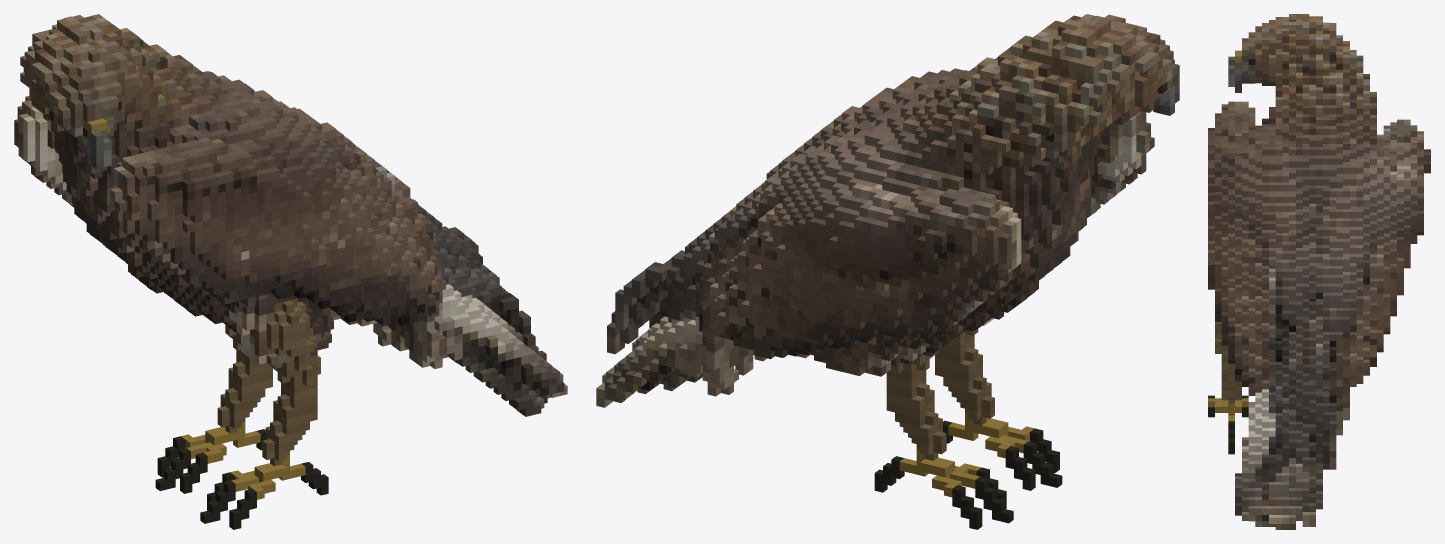
The model's file is colored-voxels.glb.
3 views of the same model, side by side, from view 1: azimuth 30°, elevation 25°; view 2: azimuth 150°, elevation 25°; view 3: azimuth 270°, elevation 25° (orthographic). The views are drawn at different scales.
Visible parts, largest first — view 1: geometry_0; view 2: geometry_0; view 3: geometry_0.
Boxes of the visible parts, x1,y1,x2,y2 form: geometry_0: (14, 14, 567, 529); geometry_0: (596, 14, 1179, 529); geometry_0: (1208, 14, 1430, 529).
Bounding box in the file's own units: 0.8125 × 0.7375 × 0.4125.
